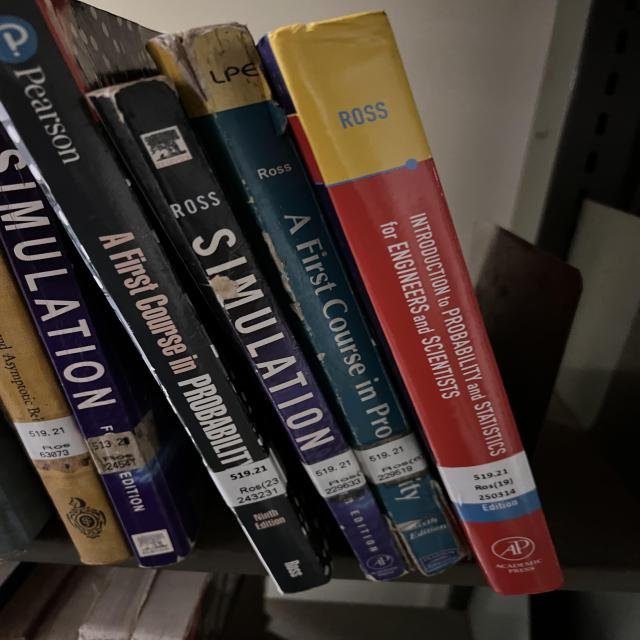Book: (2, 0, 328, 592), (260, 11, 562, 595), (87, 76, 407, 580), (192, 102, 465, 575), (0, 132, 197, 568), (0, 250, 132, 564)
Label: (438, 451, 535, 504), (210, 458, 287, 508), (353, 434, 427, 484), (15, 415, 88, 460), (303, 450, 367, 498), (87, 431, 145, 474)
